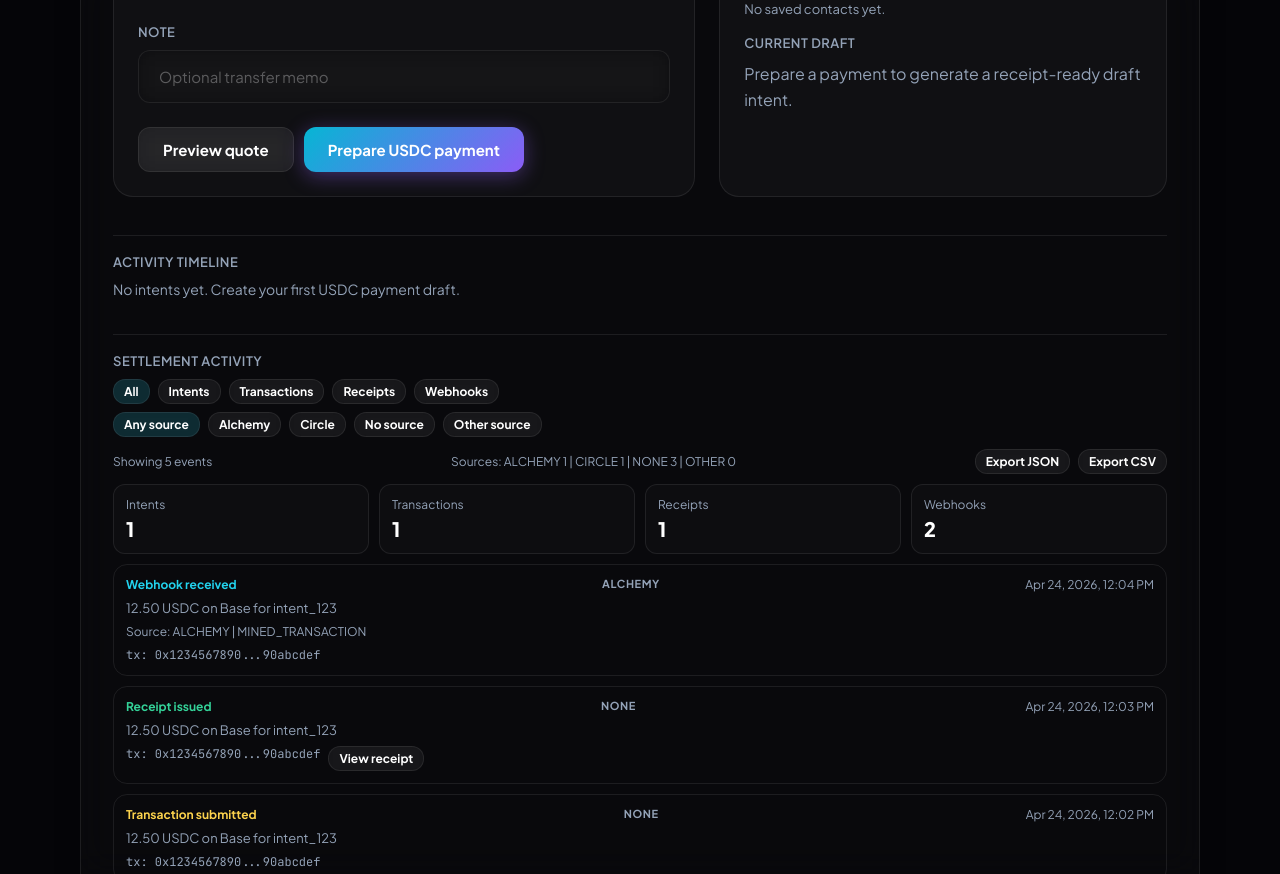
Test case: ProductionWalletApp › filters settlement activity to entries with no webhook source
(page scrolled)
Expected: the text "Showing 5 events" is shown, [113,454,212,469]
Click the button "No source" at [394, 425], box [354,412,435,437]
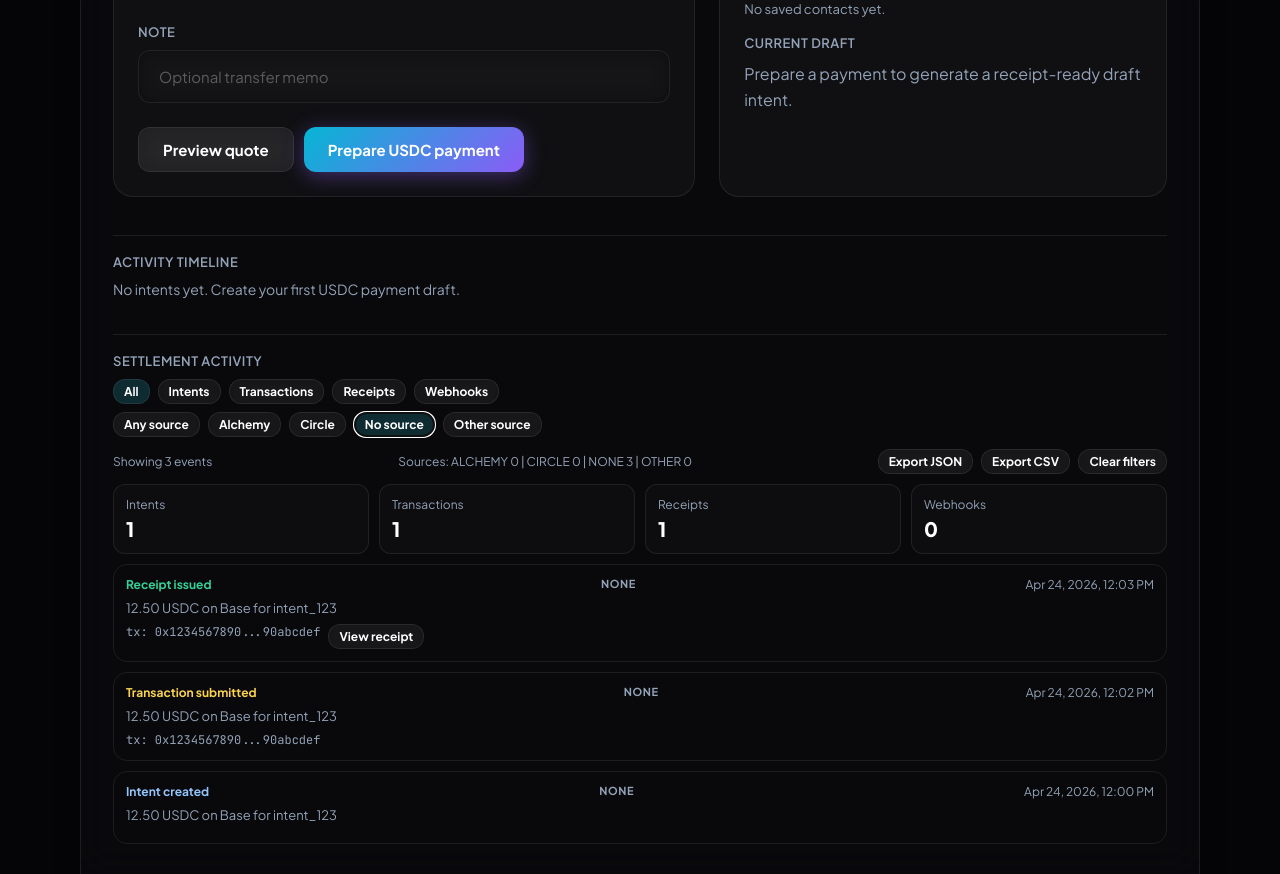
Result: the text "Showing 3 events" is shown at [113,454,212,469]
Result: the text "Source: ALCHEMY" is gone
